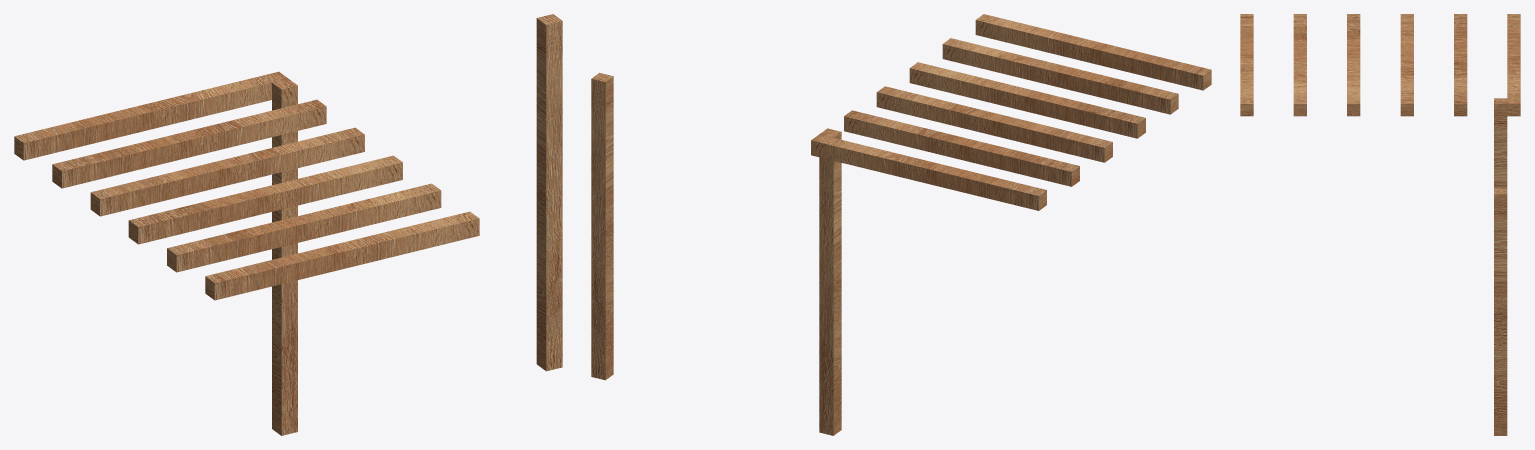
File: 47154_gpt-only.glb
The picture shows the model from 3 angles, left to right: view 1: azimuth 30°, elevation 25°; view 2: azimuth 150°, elevation 25°; view 3: azimuth 270°, elevation 25°; orthographic projection. The views are drawn at different scales.
Parts seen in each view (by area): view 1: ParentEmpty; view 2: ParentEmpty; view 3: ParentEmpty.
Boxes of the visible parts, x1,y1,x2,y2 form: ParentEmpty: (14,14,562,435); ParentEmpty: (591,14,1211,435); ParentEmpty: (1240,14,1520,435).
Size of the model in its own units: 1 by 0.625 by 0.6563.
1 material, 1 textured.
